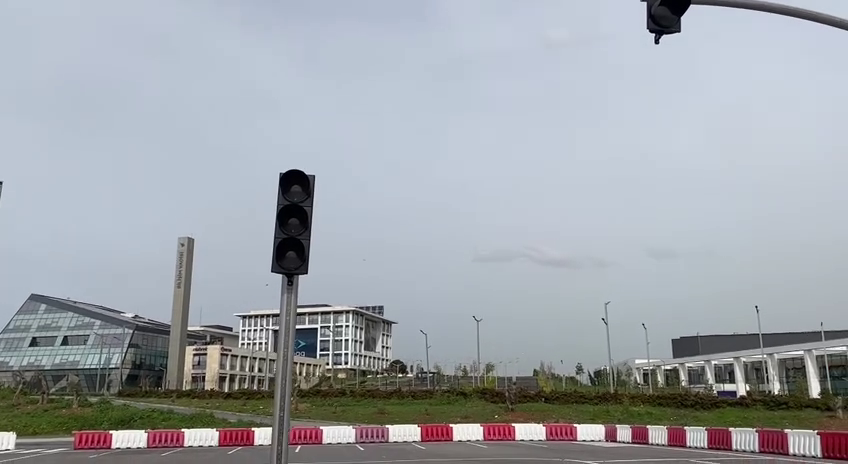trafficLight: (267, 165, 320, 288), (643, 1, 694, 43)
